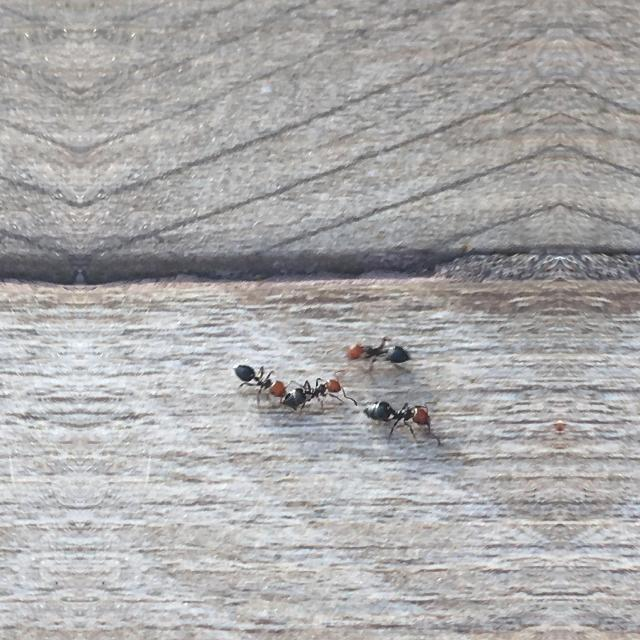Crematogaster: (355, 389, 439, 441), (342, 330, 418, 376), (235, 352, 285, 404), (292, 372, 348, 413)
